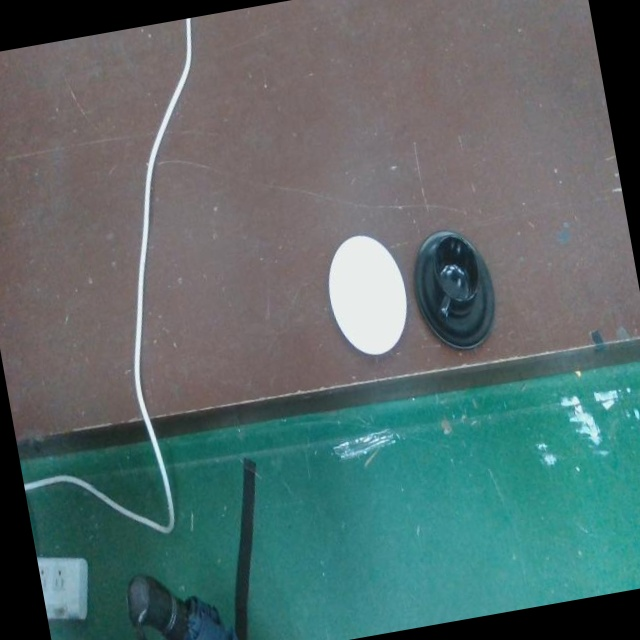black: (413, 226, 495, 354)
white: (328, 232, 408, 359)
